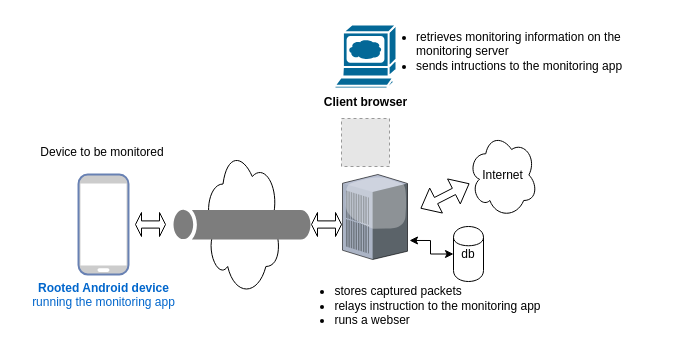
This 674x356 diagram has some shape labels left out. Grey dashed boxes stand in for pictures. Each missing label, with the centre of its shape:
Monitoring server: point (374, 216)
VPN Tunnel: point (241, 224)
